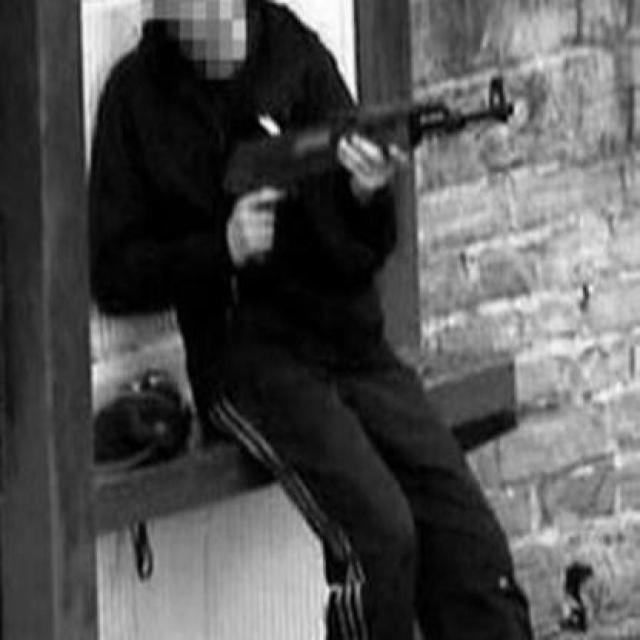weapon: (216, 74, 515, 260)
